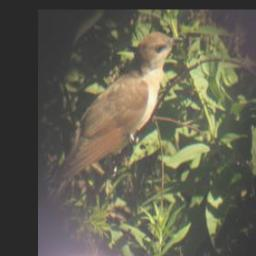Cuckoo: (43, 31, 185, 213)
